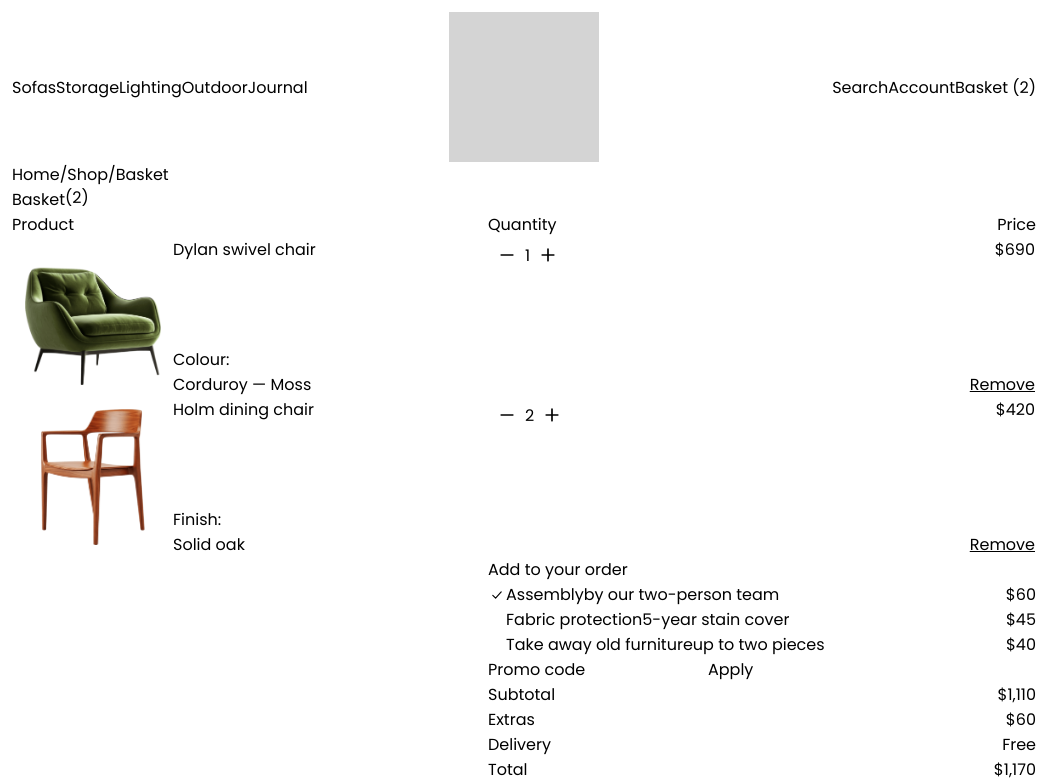
the published screens › adds Pomelo's chosen colour and lets extras change the total
The width and height of the screenshot is (1048, 780).
Click the checkbox labelled "Fabric protection 5-year stain cover". click: (648, 620)
box: [506,608,789,631]
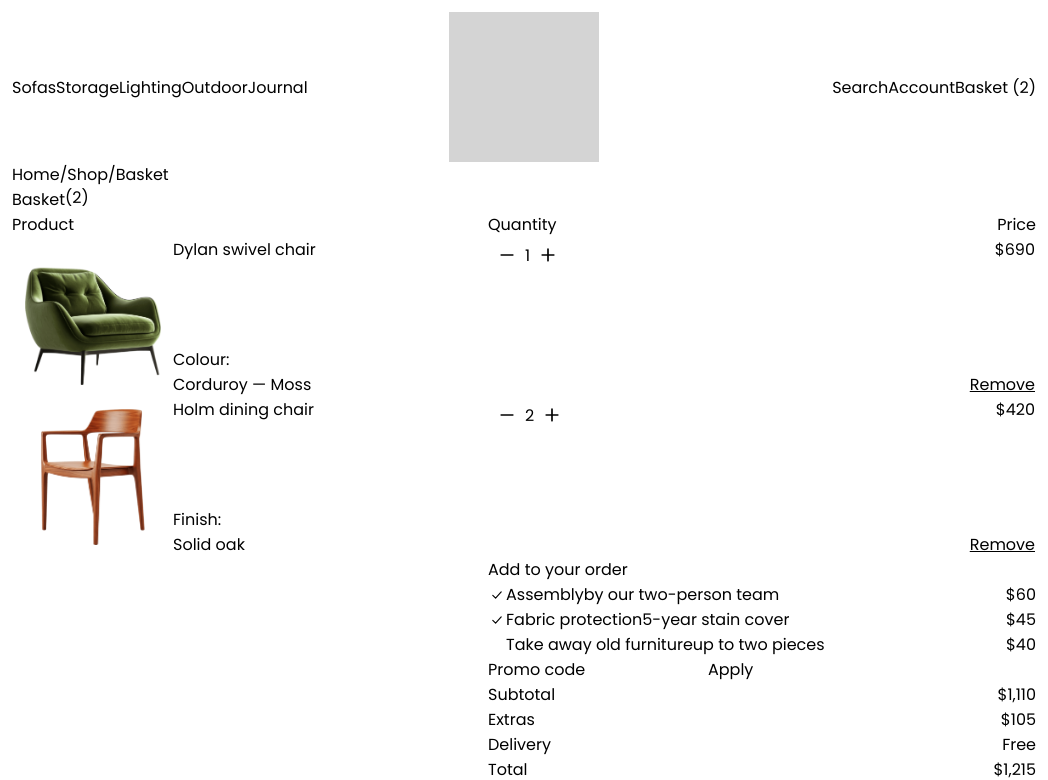
Click the button with aria-label "Remove Dylan swivel chair". click: (1002, 384)
box: [970,372,1035,397]
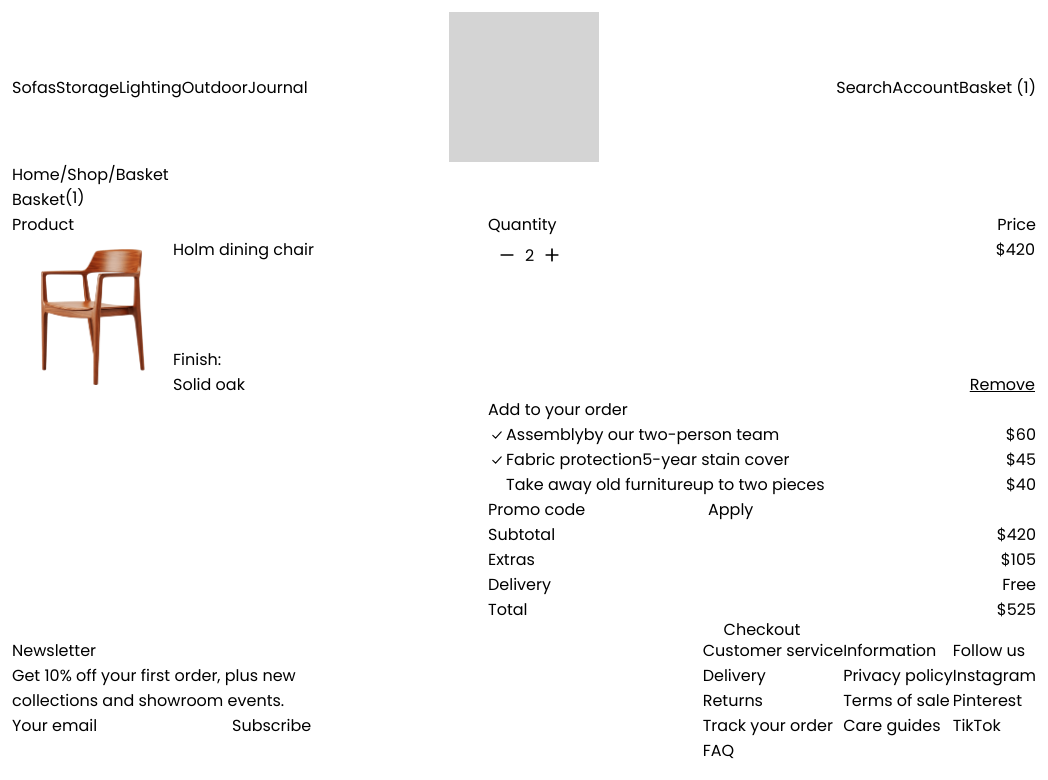
Result: the text "(1)" is shown at [65,187,85,209]
